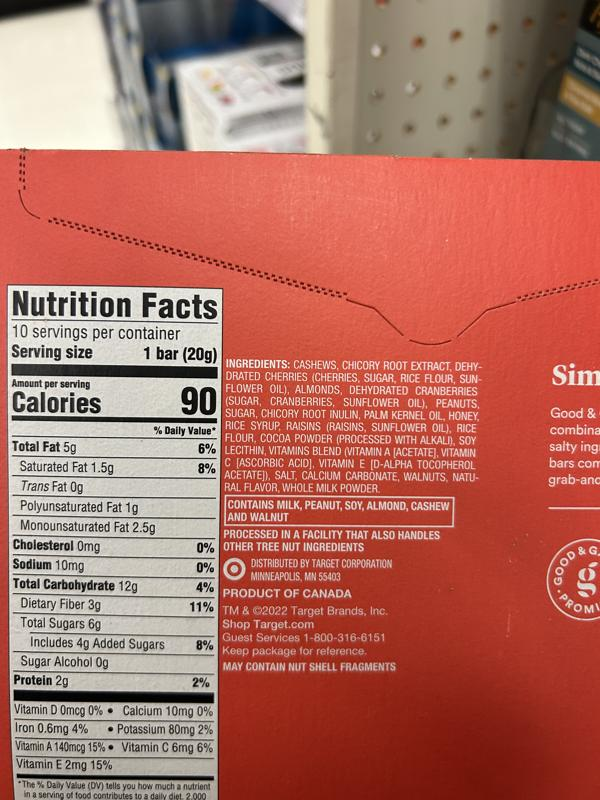ingredients: (221, 356, 483, 495)
